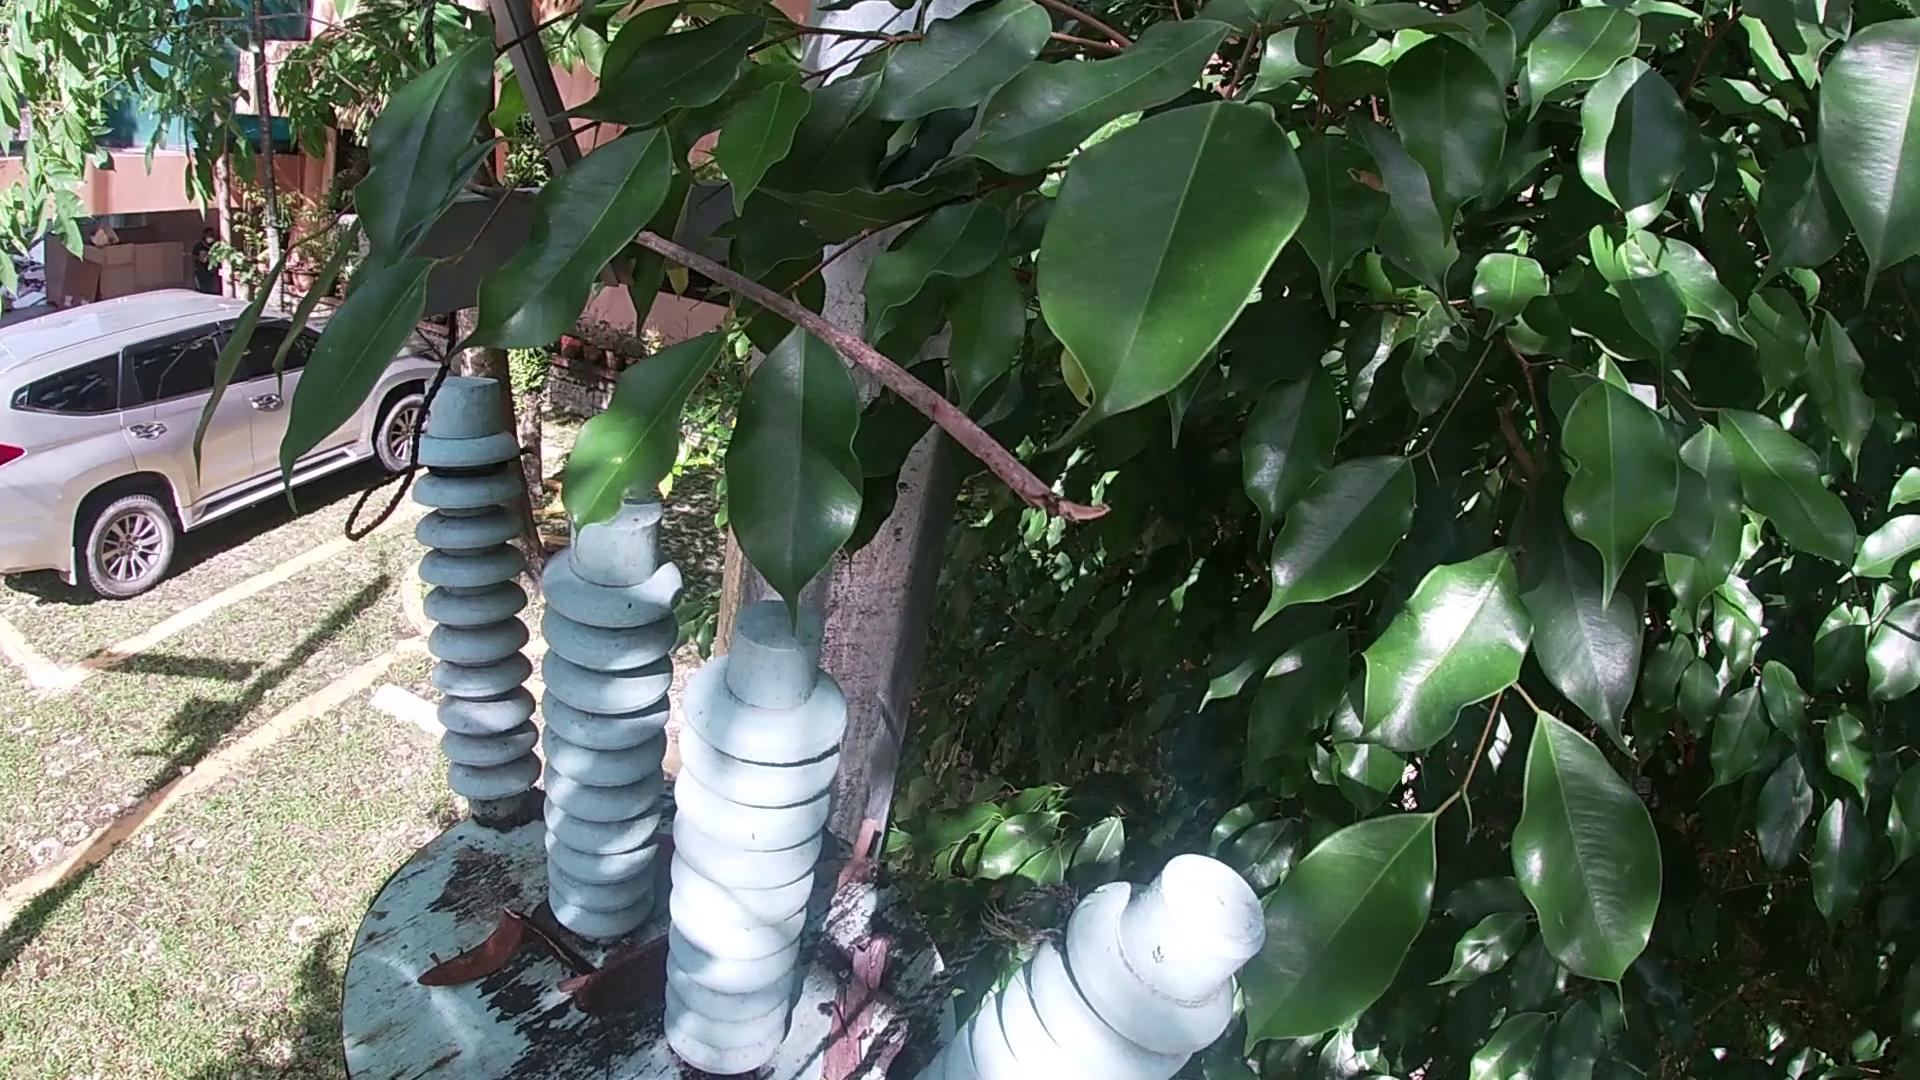leaf: (530, 913, 600, 977)
mahogany fruit: (413, 897, 526, 994)
tree branch: (471, 167, 1102, 535), (804, 919, 899, 1080), (572, 930, 669, 1027), (810, 820, 885, 914), (814, 855, 882, 893), (549, 971, 578, 1014)
